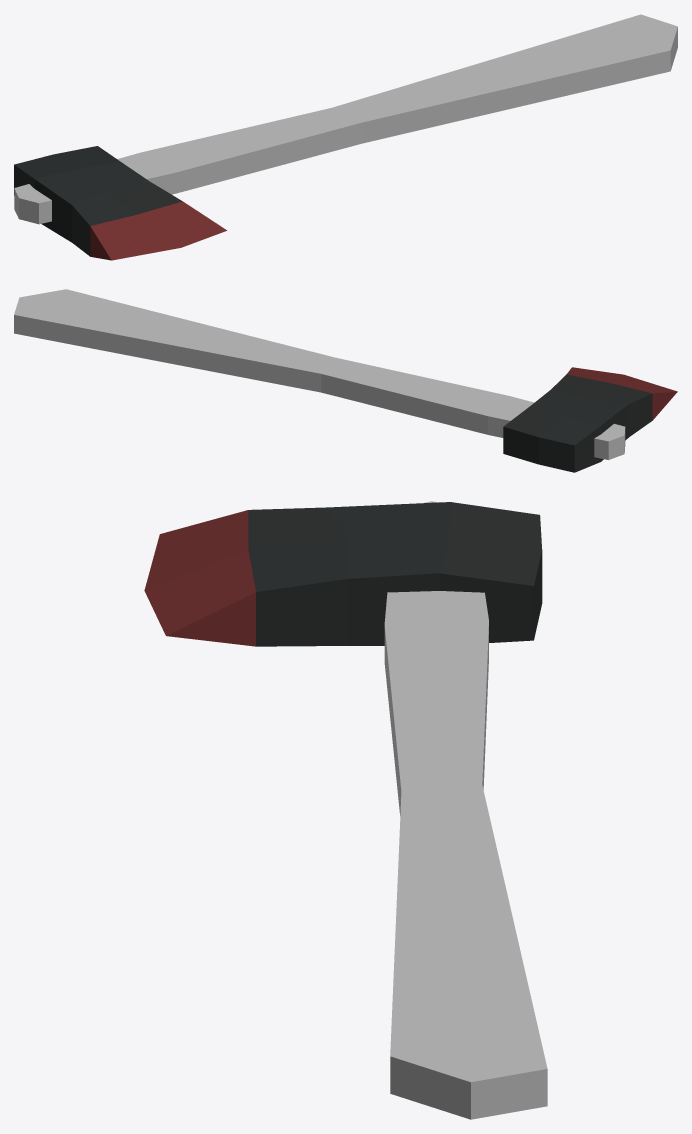
The model's file is Axe_1_White.fbx.
The picture shows the model from 3 angles, top to bottom: view 1: azimuth 30°, elevation 25°; view 2: azimuth 150°, elevation 25°; view 3: azimuth 270°, elevation 25°; orthographic projection. The views are drawn at different scales.
Visible parts, largest first — view 1: Axe_1_White; view 2: Axe_1_White; view 3: Axe_1_White.
Part boxes in pixels (x1,y1,x2,y2): Axe_1_White: [14, 14, 677, 260]; Axe_1_White: [14, 289, 677, 472]; Axe_1_White: [144, 501, 547, 1119].
Size of the model in its own units: 137 by 7.99 by 40.18.
